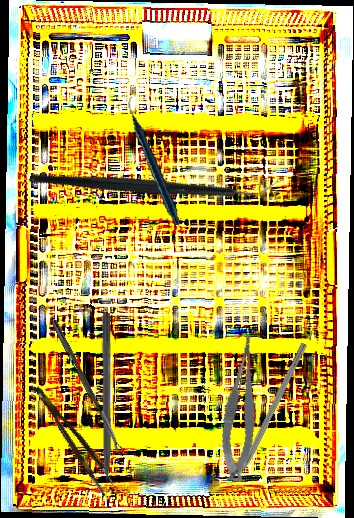Chopper: (27, 88, 279, 275), (222, 338, 308, 491)
Handpiece: (102, 96, 208, 226)
Micro Scissor: (211, 332, 274, 483)
Pusher: (100, 313, 111, 504)
Surgical Spoon: (50, 319, 123, 454)
Tissue Forceps: (32, 379, 117, 495)
